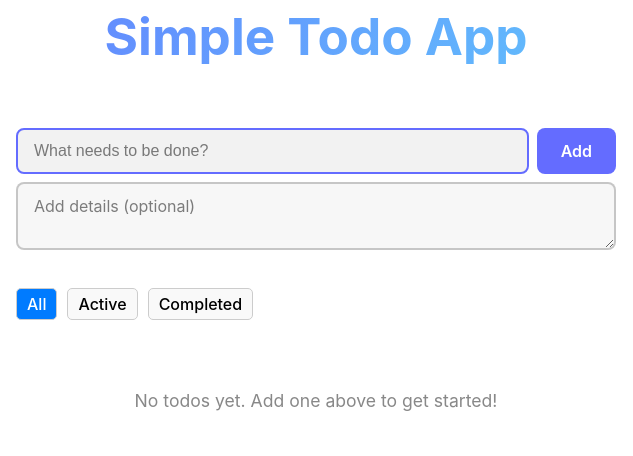
Test: App › adds a new todo with title and description
In the field with placeholder "What needs to be done?": (272, 151) [16,128,529,174], type "Test todo item"
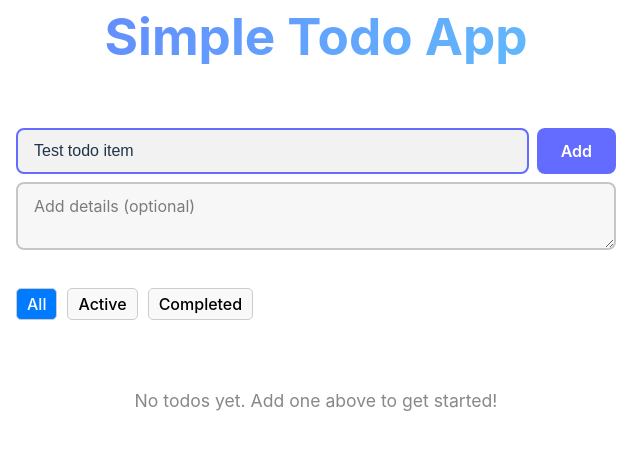
In the text box with placeholder "Add details (optional)": (316, 216) [16,182,616,250], type "Test description"
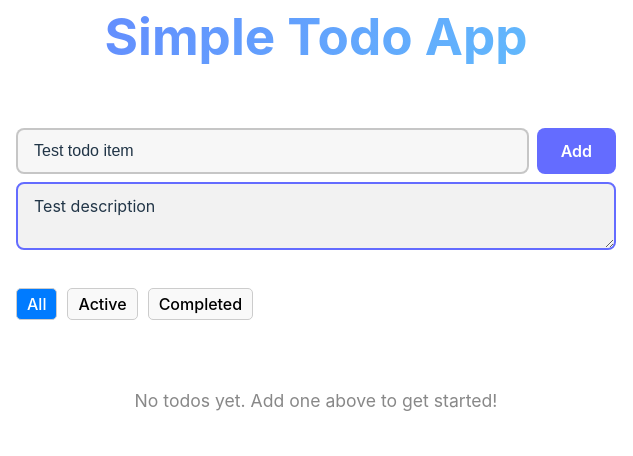
Click the button with aria-label "Add todo": (576, 151) [537,128,616,174]
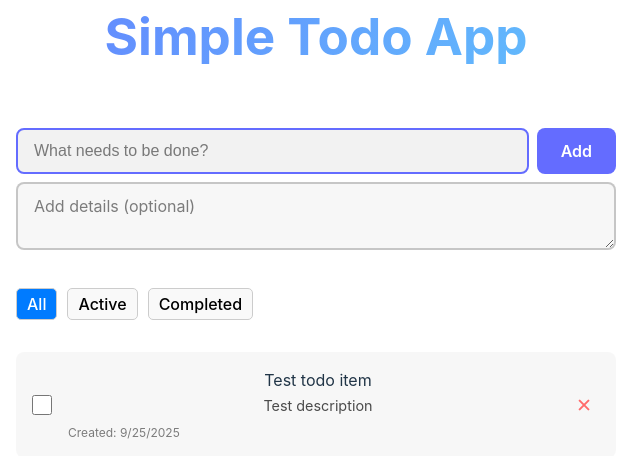
Now the text "Test todo item" is shown, box [264,370,372,390]
Now the text "Test description" is shown, box [263,397,372,414]
